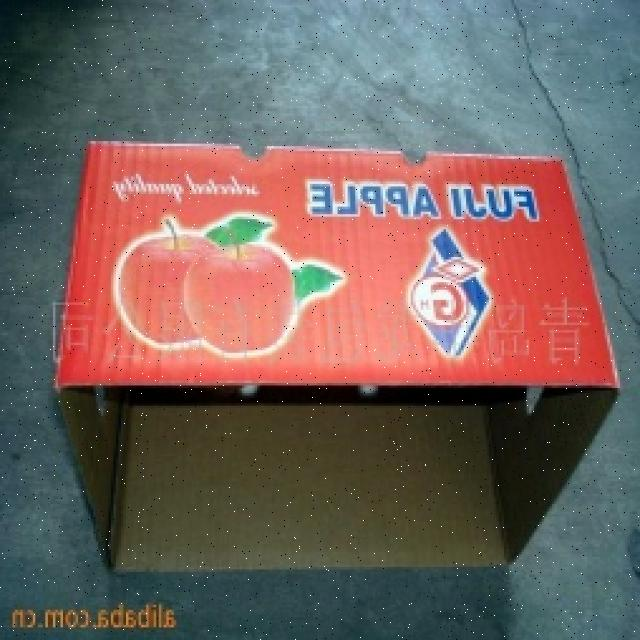box: (57, 122, 630, 601)
